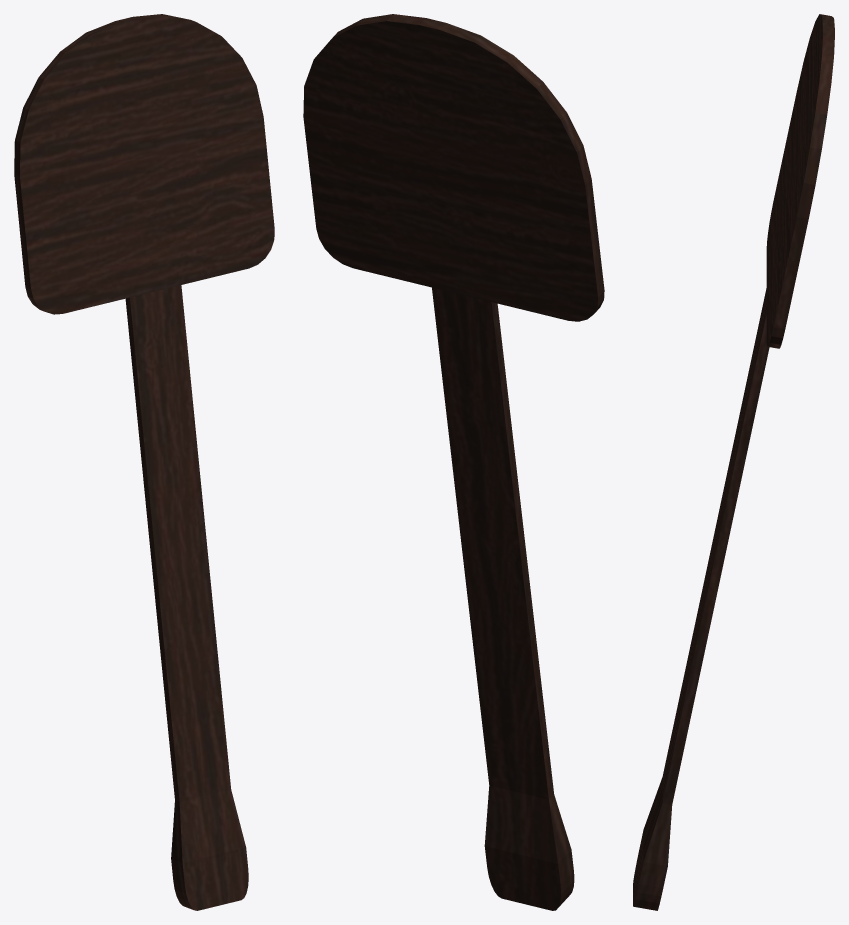
The model's file is kürek.fbx.
The picture shows the model from 3 angles, left to right: view 1: azimuth 30°, elevation 25°; view 2: azimuth 150°, elevation 25°; view 3: azimuth 270°, elevation 25°; orthographic projection. The views are drawn at different scales.
Visible parts, largest first — view 1: Plane.003; view 2: Plane.003; view 3: Plane.003.
Boxes of the visible parts, x1,y1,x2,y2 form: Plane.003: (14,14,274,910); Plane.003: (303,14,604,910); Plane.003: (633,14,834,910).
Size of the model in its own units: 65.52 by 211 by 44.51.
